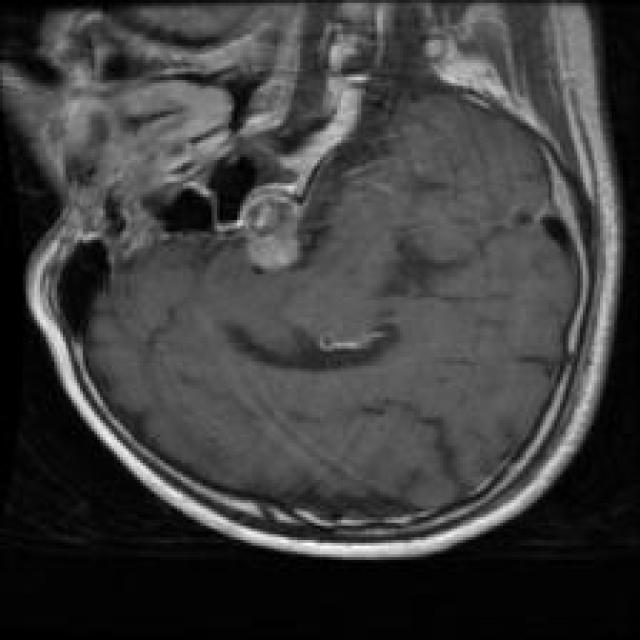pituitary_tumor: (211, 170, 332, 303)
